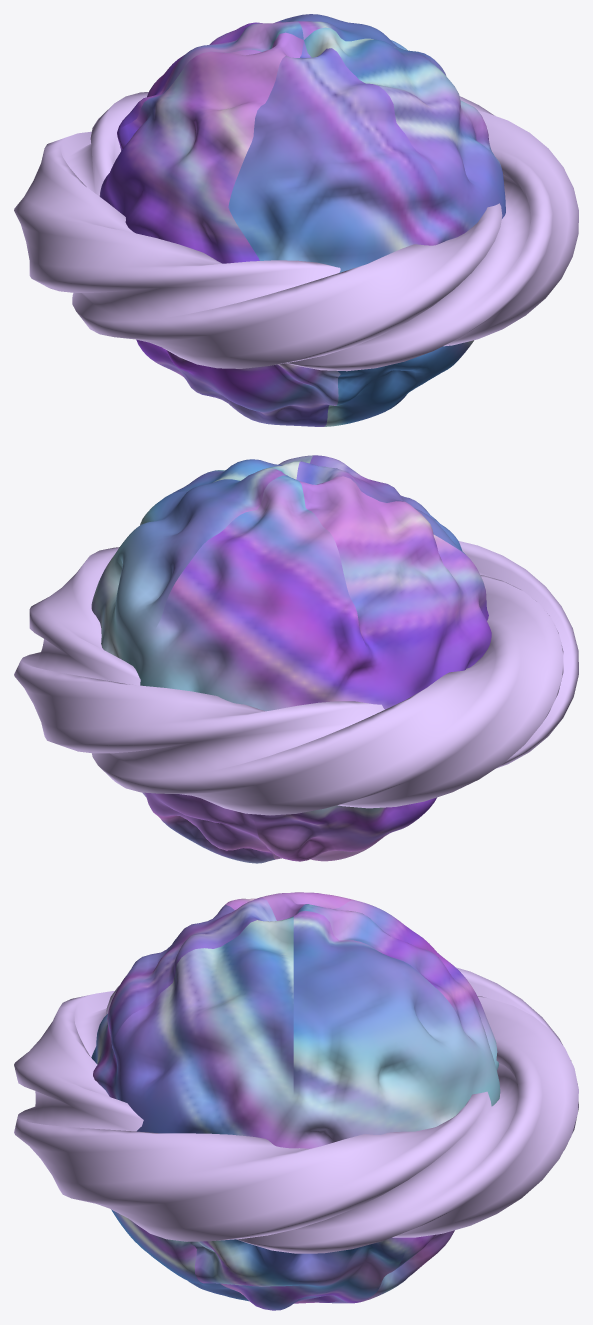
3 renders of one model, top to bottom at view 1: azimuth 30°, elevation 25°; view 2: azimuth 150°, elevation 25°; view 3: azimuth 270°, elevation 25°, orthographic.
Visible parts, largest first — view 1: Infuse Icon, Intense Icon; view 2: Infuse Icon, Intense Icon; view 3: Infuse Icon, Intense Icon.
Part boxes in pixels (left/top/right/bottom): Infuse Icon: left=99, top=14, right=505, bottom=426; Intense Icon: left=14, top=92, right=578, bottom=371; Infuse Icon: left=91, top=455, right=491, bottom=863; Intense Icon: left=14, top=541, right=578, bottom=815; Infuse Icon: left=91, top=892, right=500, bottom=1310; Intense Icon: left=14, top=967, right=578, bottom=1253.
Size of the model in its own units: 197 by 143 by 192.
Materials: 2 (1 with a texture image).
